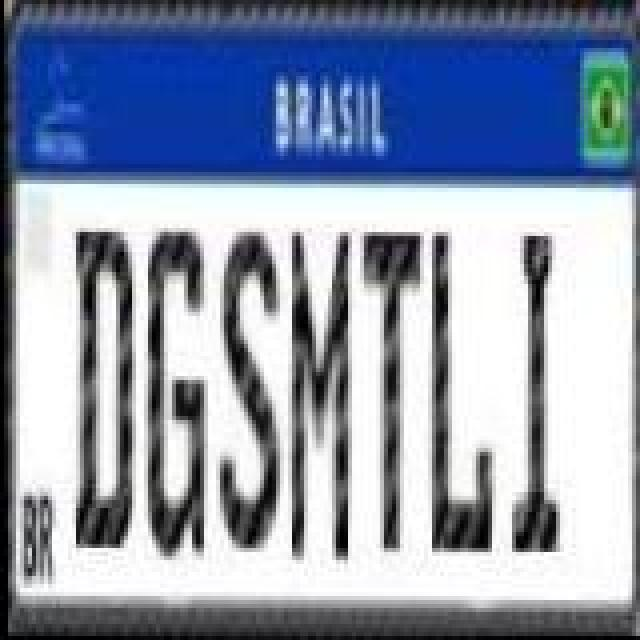D: (68, 226, 136, 550)
G: (138, 226, 210, 570)
I: (504, 230, 564, 554)
L: (422, 230, 494, 554)
M: (282, 226, 354, 570)
S: (214, 226, 286, 550)
T: (356, 230, 424, 554)
